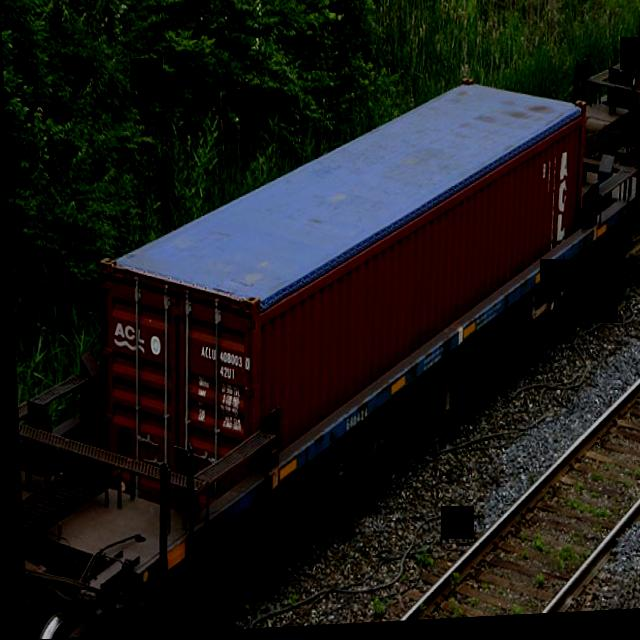container: (82, 70, 605, 536)
flatcar: (65, 173, 640, 638)
